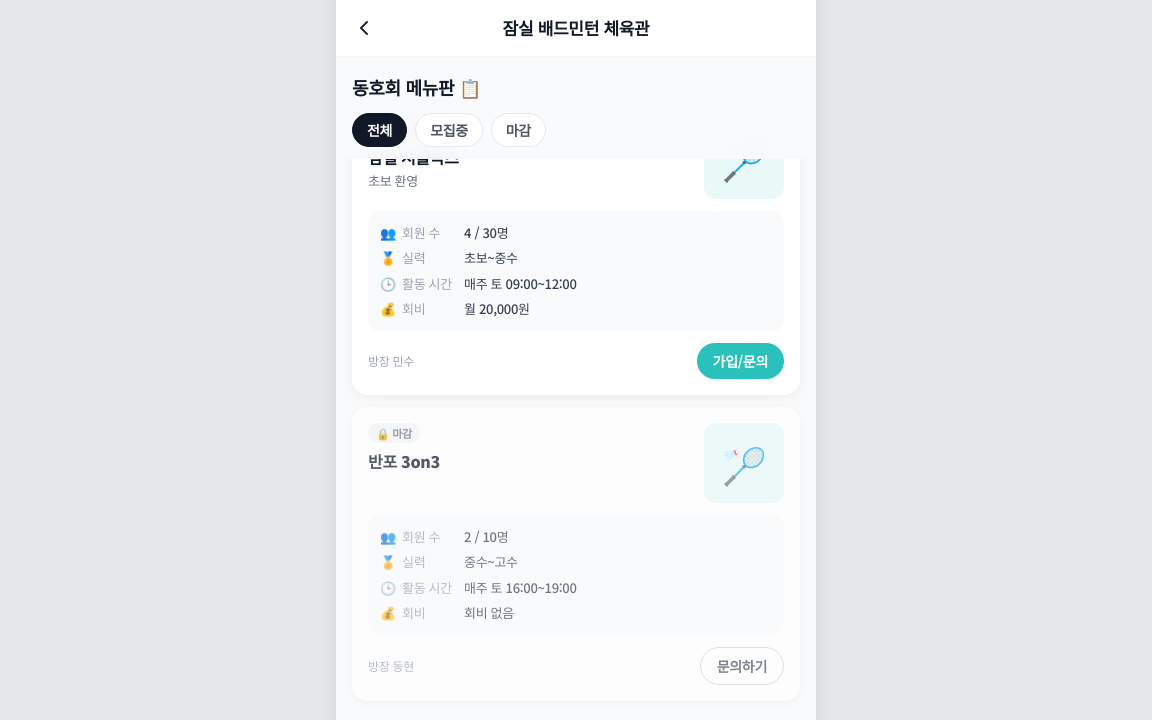
Test case: 동호회 가입 신청 › 비로그인 상태에서 누르면 로그인 안내 후, 로그인하면 원래 화면으로 돌아온다
(page scrolled)
Step 1. Click the button "가입/문의" → [740, 360], box x1=697 y1=342 x2=784 y2=378
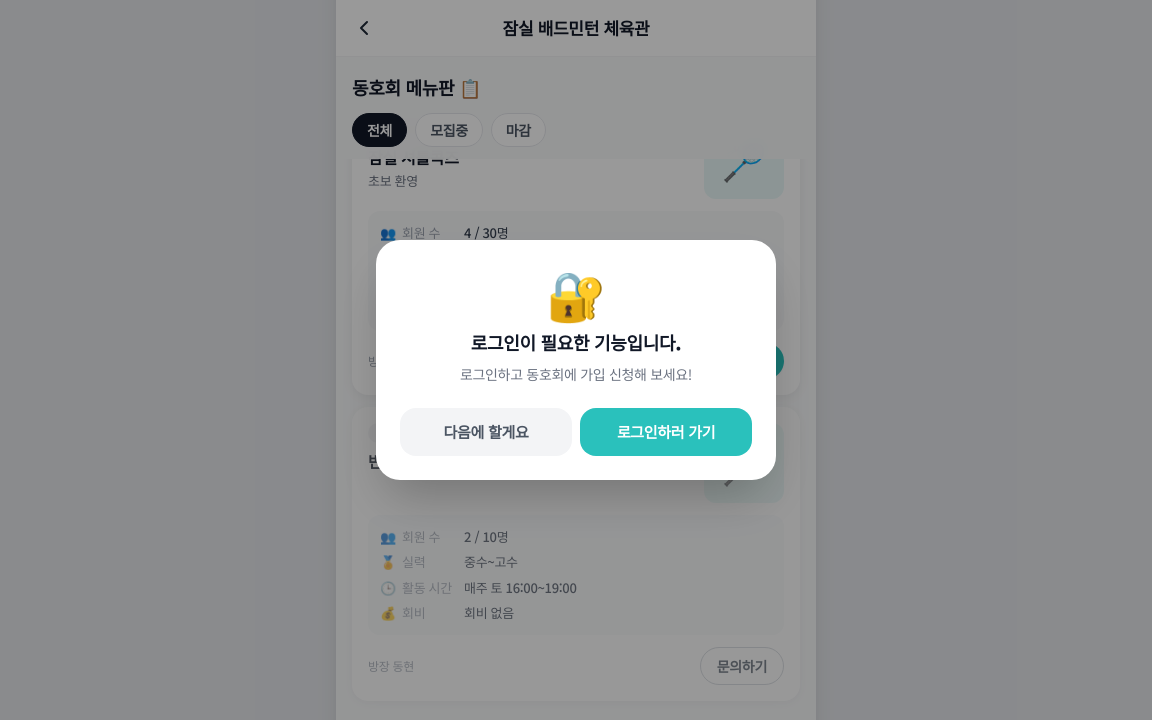
expect the dialog shows "로그인이 필요한 기능입니다.": met, box x1=471 y1=329 x2=681 y2=355
Step 2. Click the button "로그인하러 가기" → [666, 432], box x1=580 y1=408 x2=752 y2=456
(page scrolled)
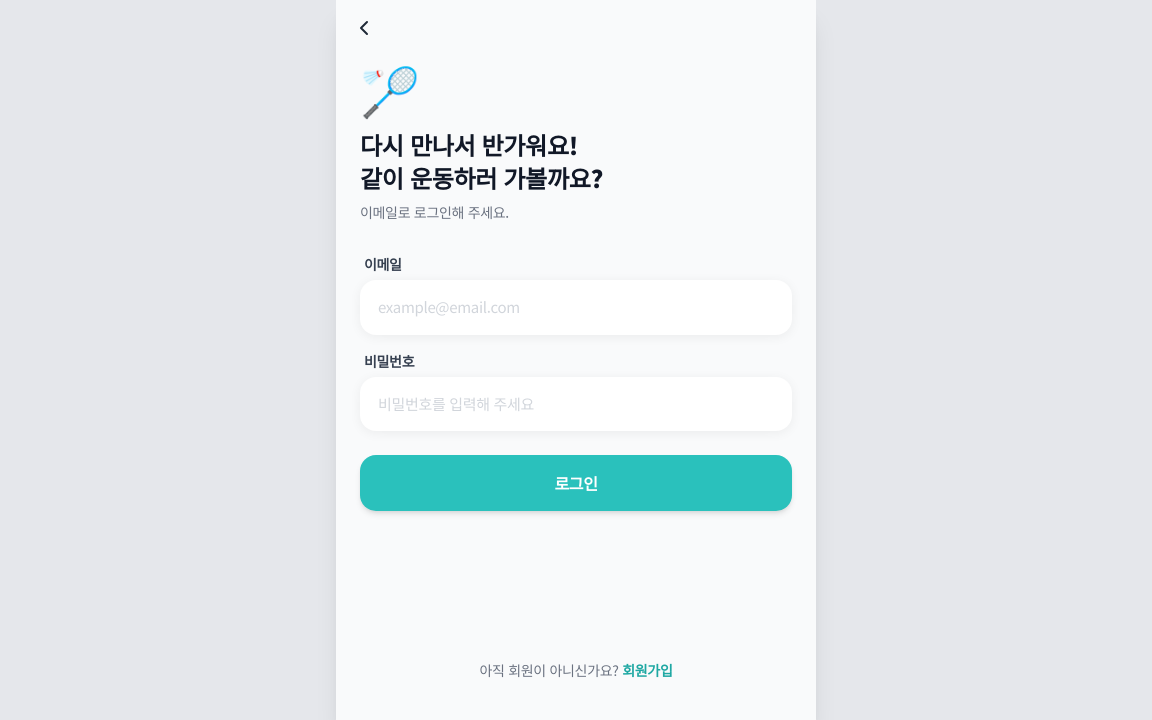
expect the button "로그인" is shown: met, box x1=360 y1=455 x2=792 y2=511
Step 3. Type "test@example.com" into the field labelled "이메일" → [576, 307], box x1=360 y1=280 x2=792 y2=334
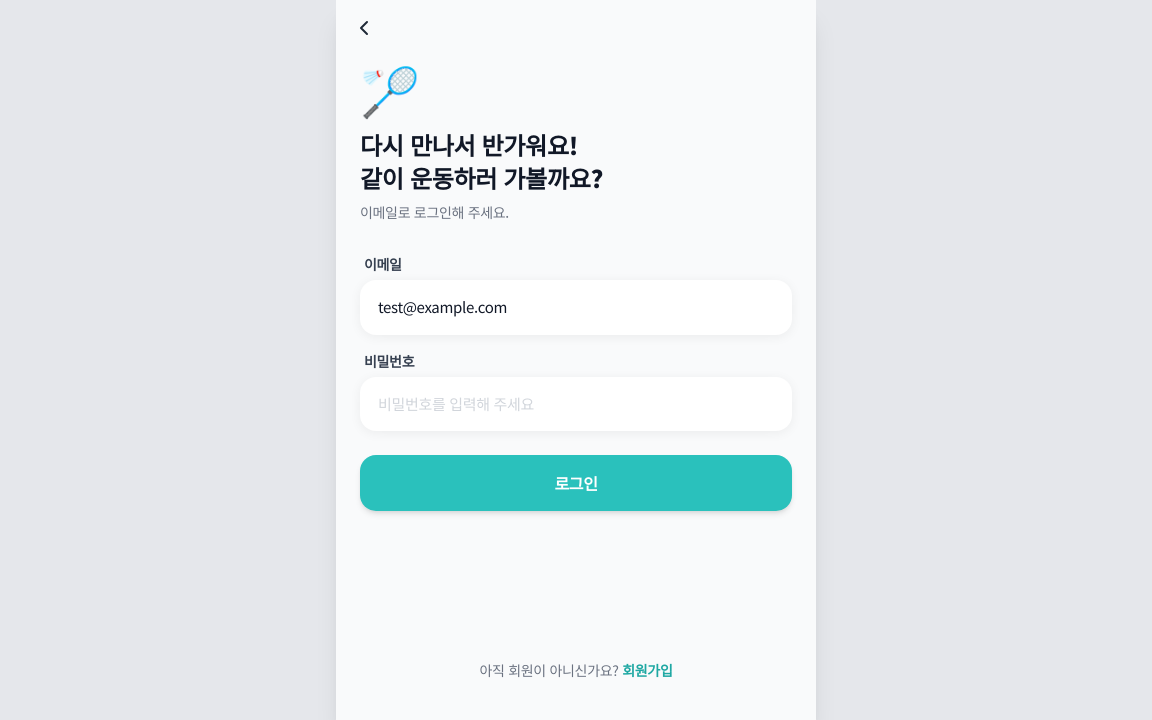
Step 4. Type "password123" into the password field labelled "비밀번호" → [576, 404], box x1=360 y1=376 x2=792 y2=431
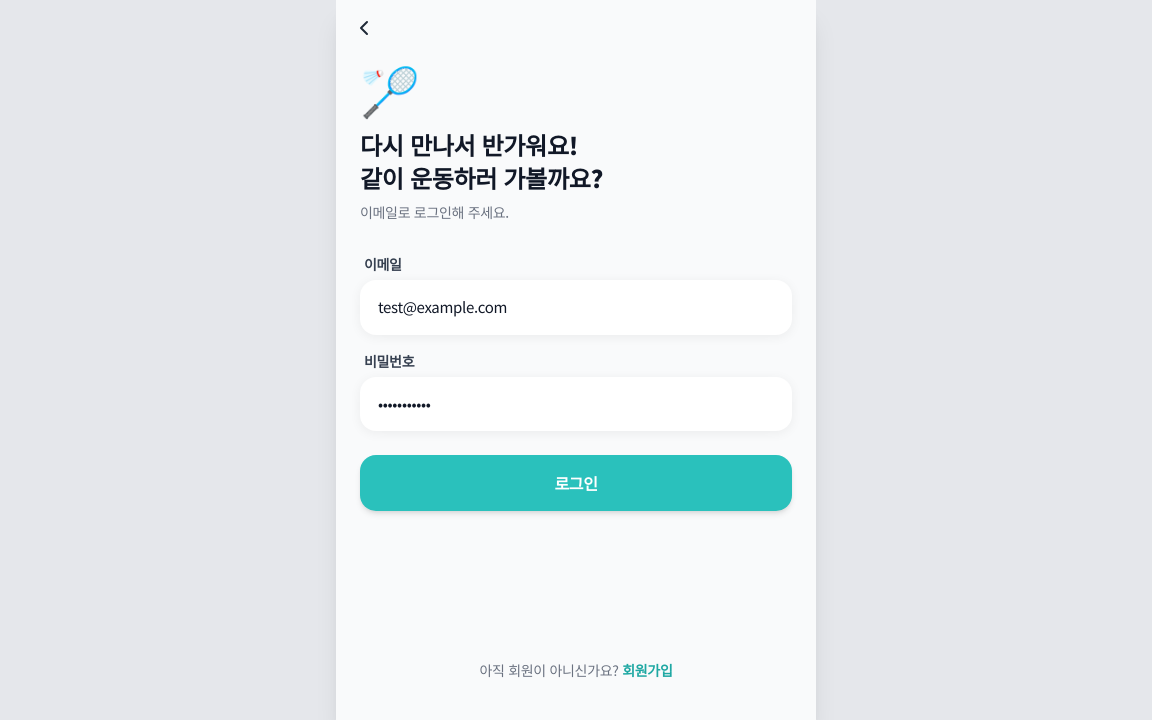
Step 5. Click the button "로그인" → [576, 483], box x1=360 y1=455 x2=792 y2=511
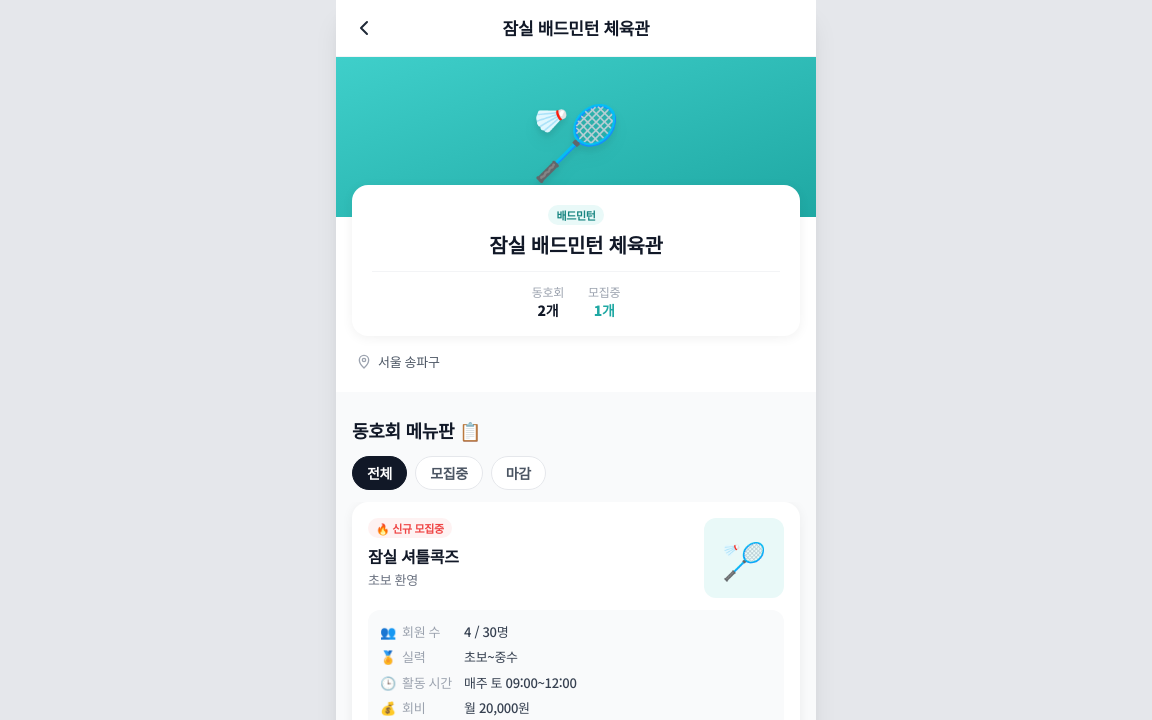
expect the heading "동호회 메뉴판 📋" is shown: met, box x1=352 y1=416 x2=481 y2=442
